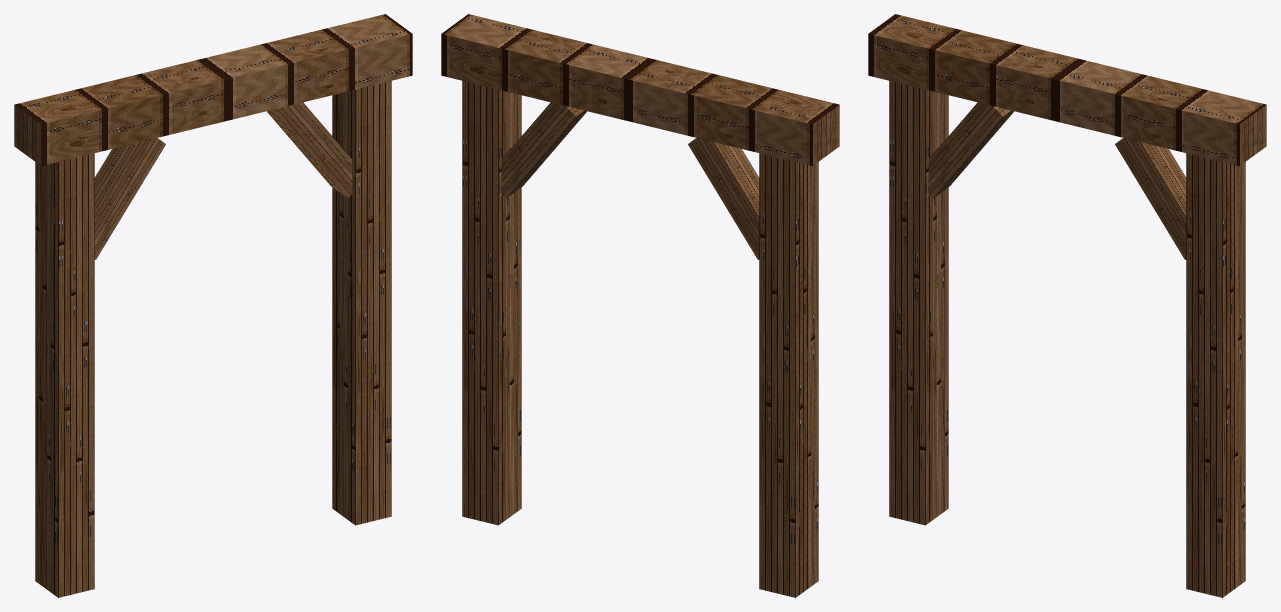
The model's file is mina_escora.glb.
3 views of the same model, side by side, from view 1: azimuth 30°, elevation 25°; view 2: azimuth 150°, elevation 25°; view 3: azimuth 330°, elevation 25° (orthographic).
Parts seen in each view (by area): view 1: mina_escora; view 2: mina_escora; view 3: mina_escora.
Part boxes in pixels (<box>): mina_escora: <box>14,14,412,597</box>; mina_escora: <box>441,14,839,597</box>; mina_escora: <box>868,14,1266,597</box>.
Bounding box in the file's own units: 2.05 × 2.53 × 0.26.
Materials: 1 (1 with a texture image).
